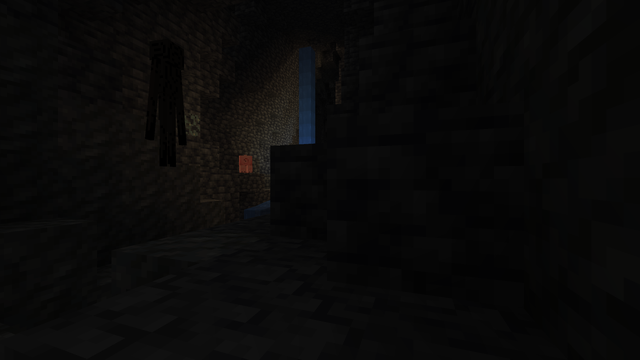cochons: (238, 154, 255, 172)
endermens: (146, 32, 187, 164)
